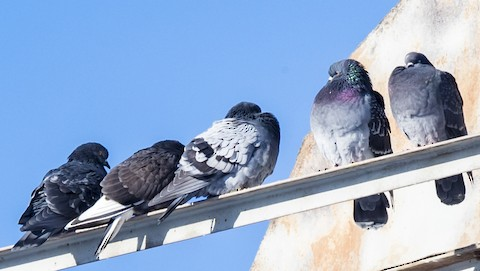pigeon: (143, 99, 285, 223), (306, 59, 402, 233), (64, 135, 189, 249), (384, 48, 478, 189), (12, 137, 113, 258)
